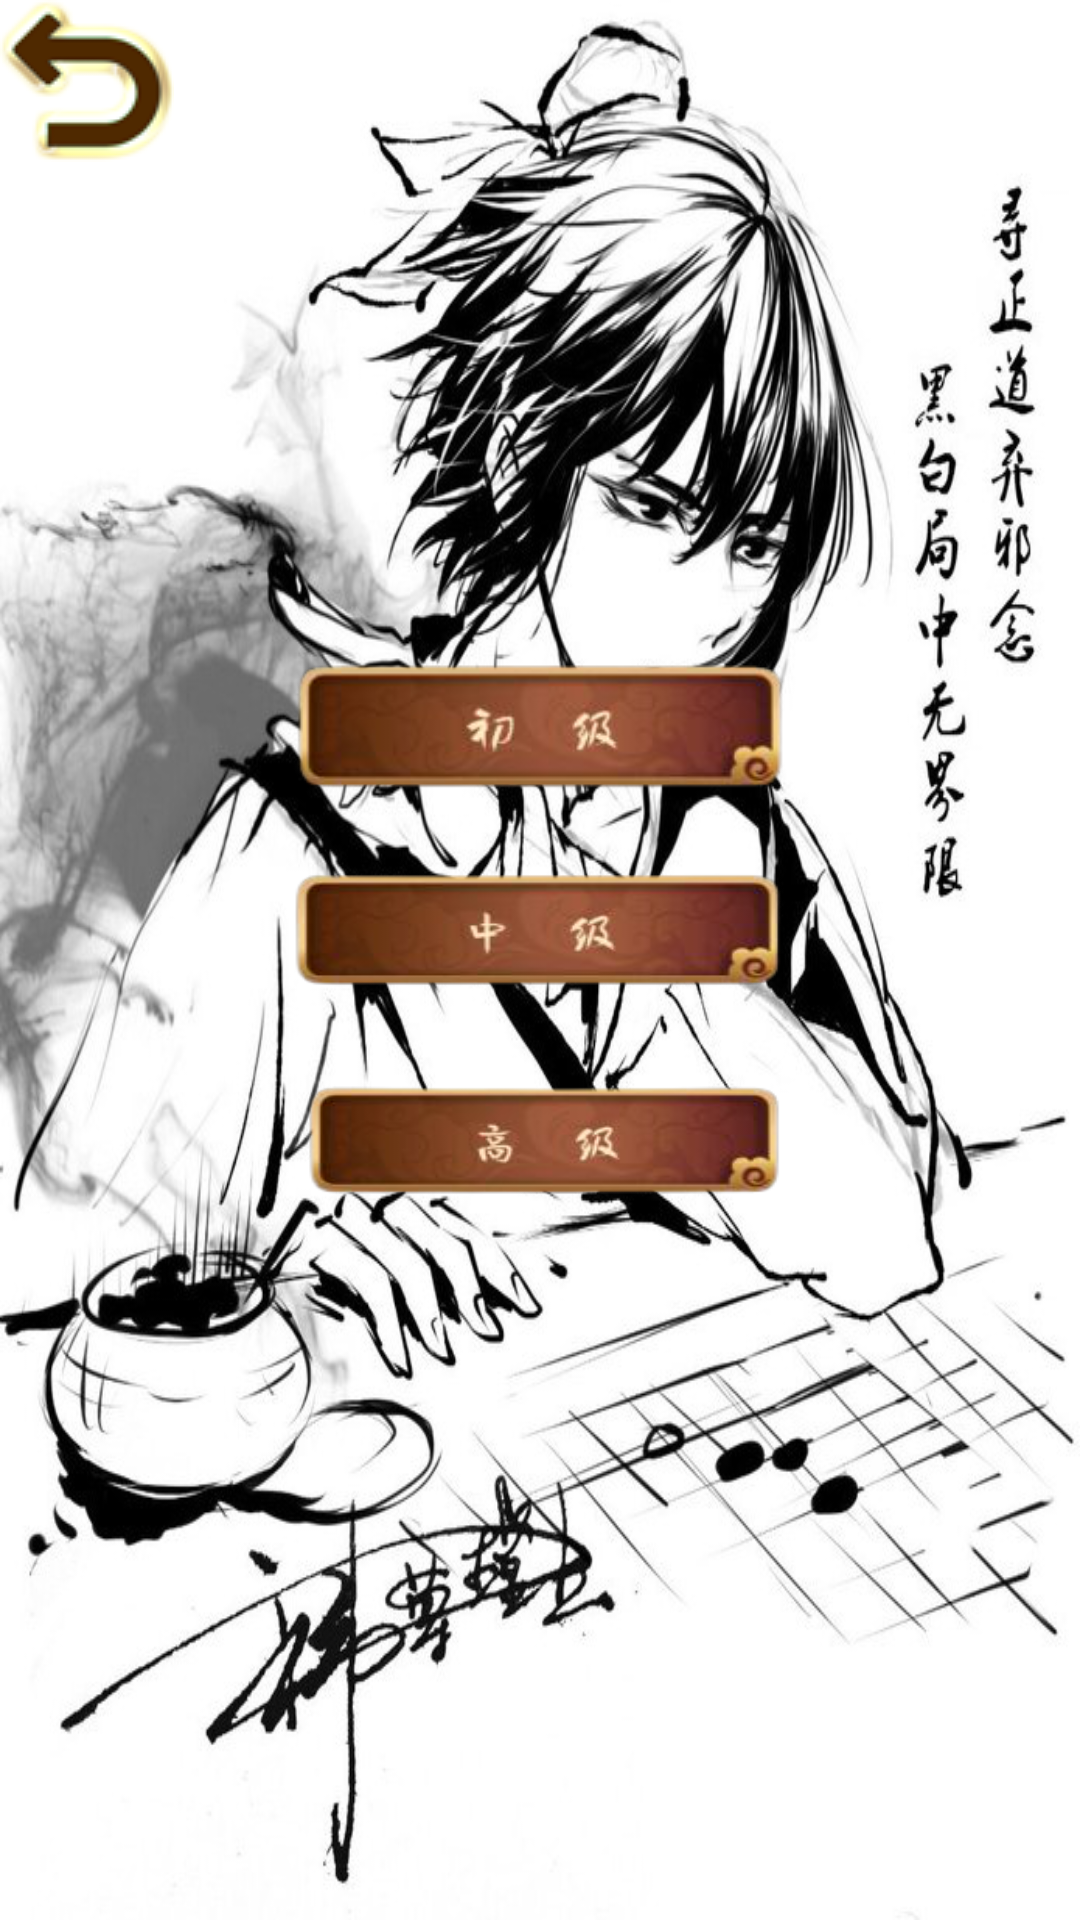

Where icons sit on this 1080px x 1920px app screen, as BBox(x1, y1, x2, y2):
return main: BBox(2, 3, 172, 160)
